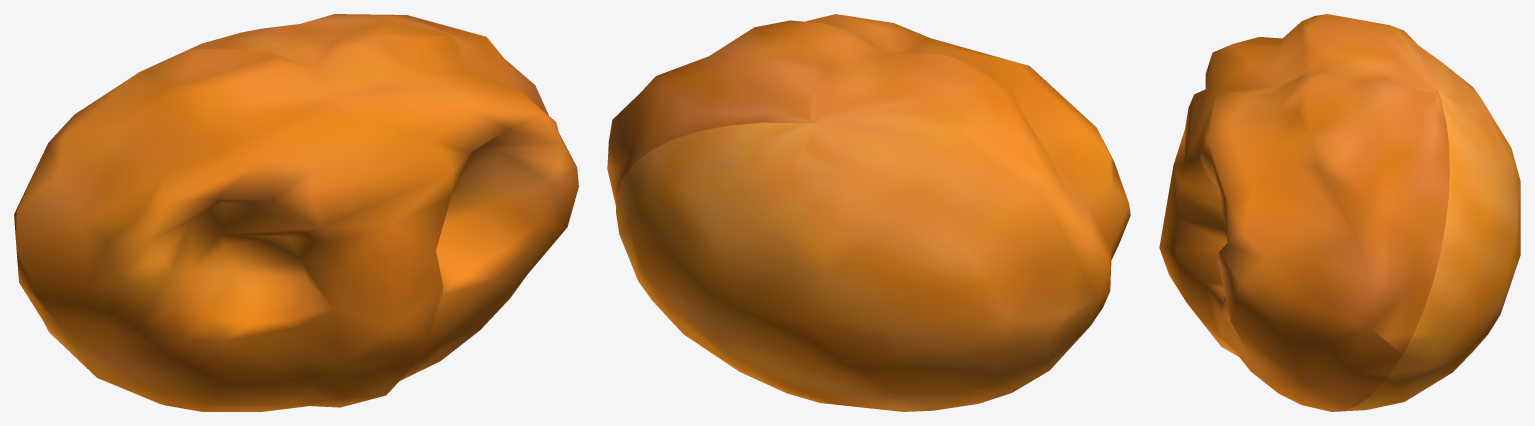
The model's file is nose.dae.
3 views of the same model, side by side, from view 1: azimuth 30°, elevation 25°; view 2: azimuth 150°, elevation 25°; view 3: azimuth 270°, elevation 25° (orthographic). The views are drawn at different scales.
Parts seen in each view (by area): view 1: nose_ncl1_1; view 2: nose_ncl1_1; view 3: nose_ncl1_1.
Boxes of the visible parts, x1,y1,x2,y2 form: nose_ncl1_1: [14, 14, 578, 411]; nose_ncl1_1: [607, 14, 1130, 411]; nose_ncl1_1: [1159, 14, 1520, 411].
Bounding box in the file's own units: 0.1104 × 0.0705 × 0.0729.
